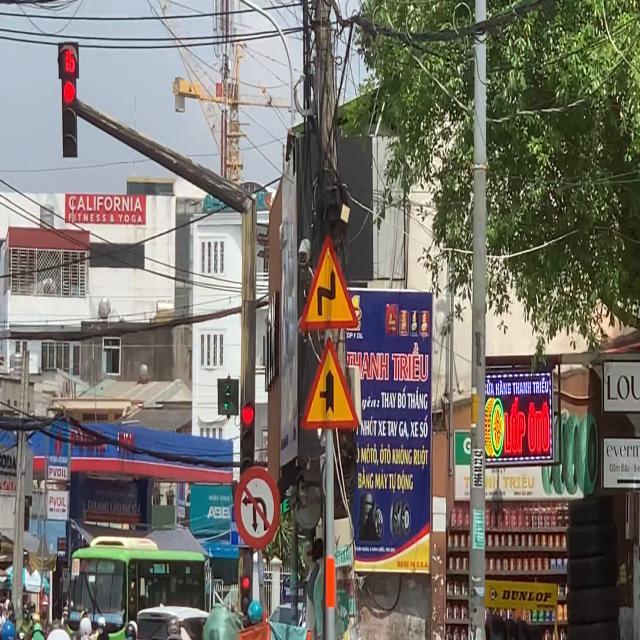Cam con lai: (233, 465, 280, 551)
Giao voi duong khong uu tien: (300, 335, 360, 431)
Nguy hiem: (300, 233, 360, 332)
